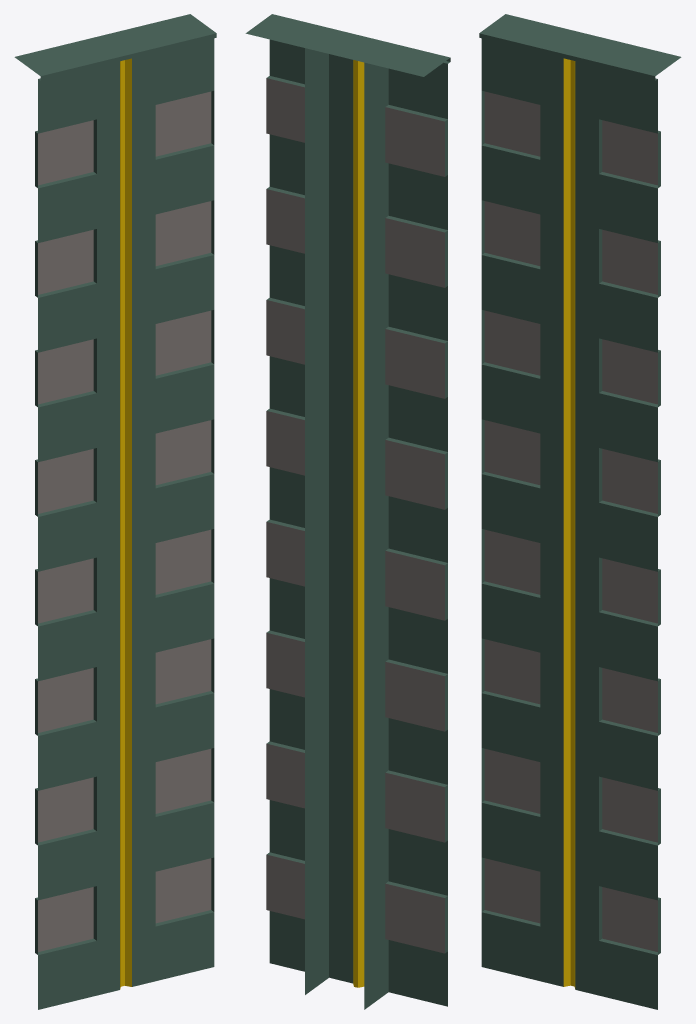
The picture shows the model from 3 angles, left to right: view 1: azimuth 30°, elevation 25°; view 2: azimuth 150°, elevation 25°; view 3: azimuth 330°, elevation 25°; orthographic projection.
Parts seen in each view (by area): view 1: Column.051; view 2: Column.051; view 3: Column.051.
Part boxes in pixels (<box>): Column.051: <box>14,14,216,1009</box>; Column.051: <box>245,14,450,1009</box>; Column.051: <box>479,14,681,1009</box>.
Size of the model in its own units: 835 by 4238 by 217.
